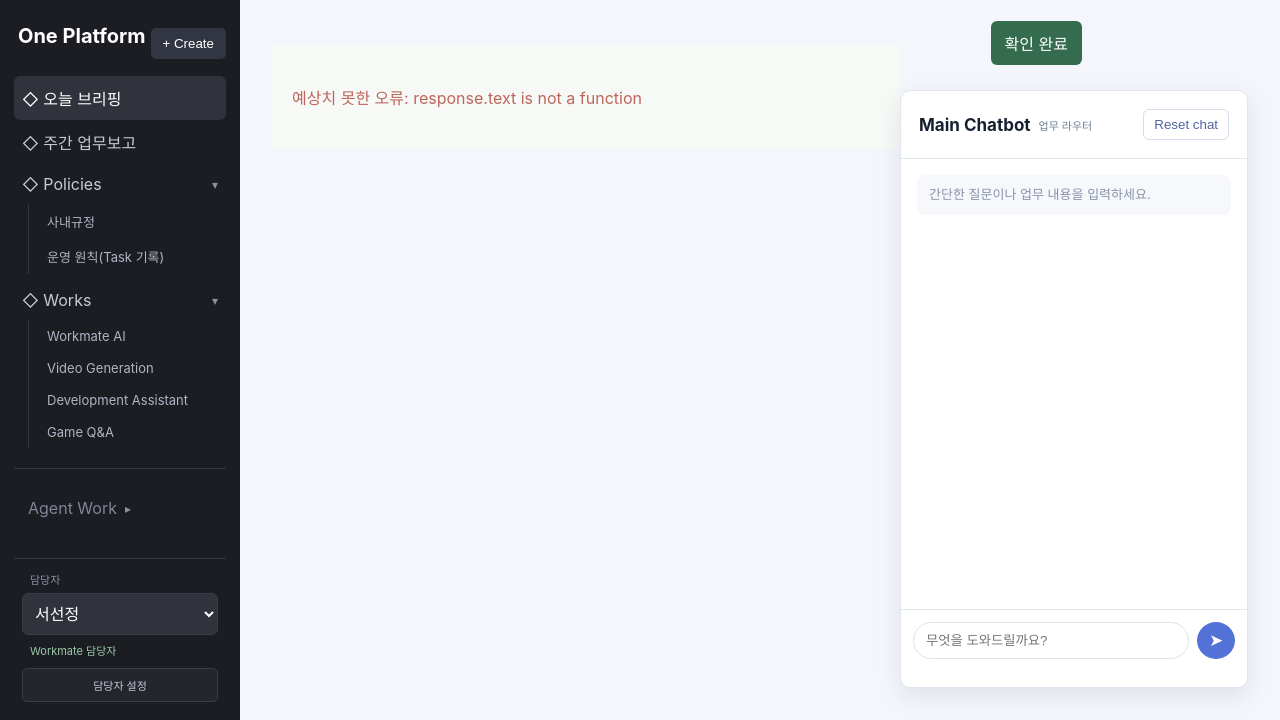
App - Video Generation sidebar entry › switches from Game Q&A to Workmate when the reply names Workmate as the target chat
Click the button "Game Q&A": click(132, 432) [39,416,226,448]
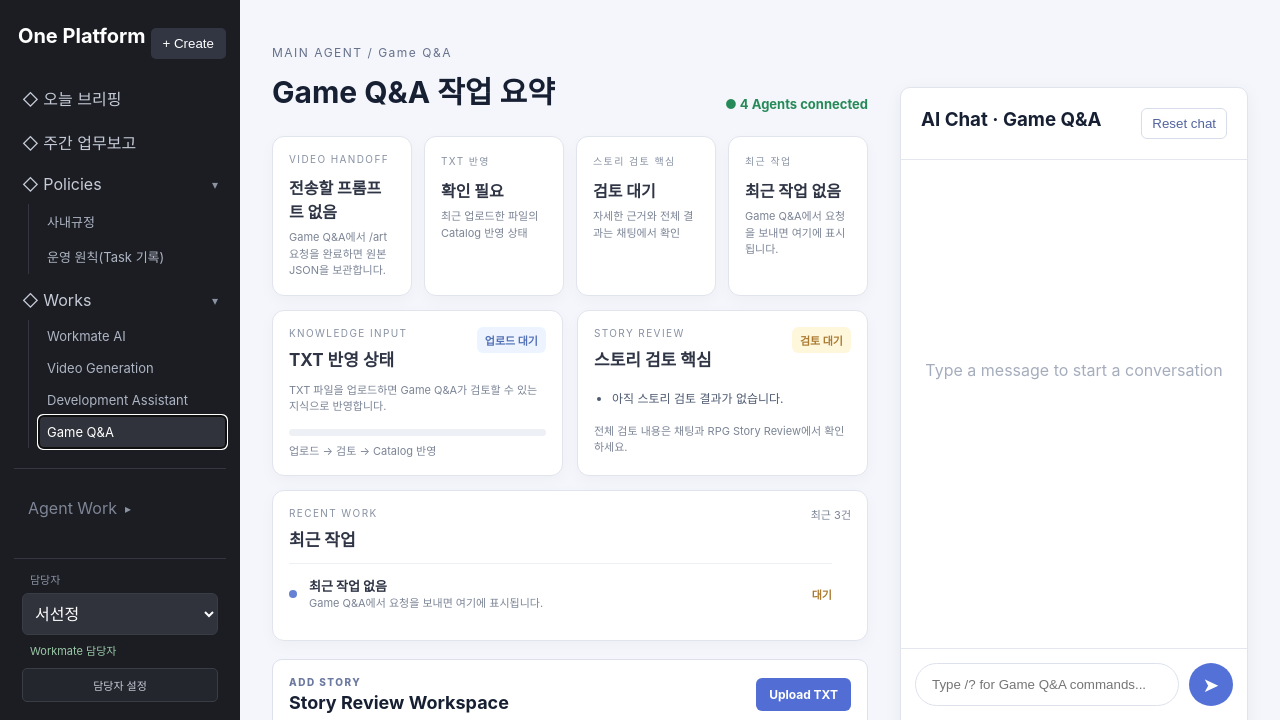
In the field with placeholder "Type /? for Game Q&A commands...": (1047, 684) [915,663,1179,706], type "다음 주 회의 일정 잡아줘"
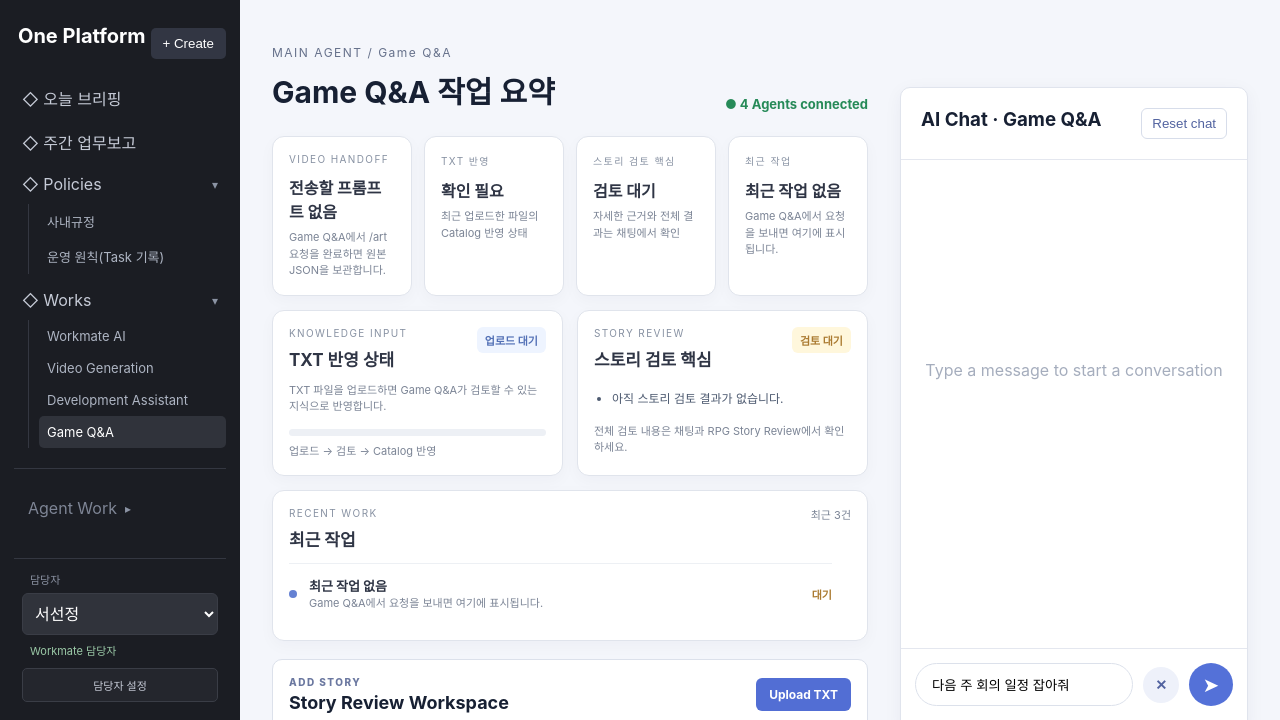
Click the submit button: click(1211, 684) [1189,663,1233,706]
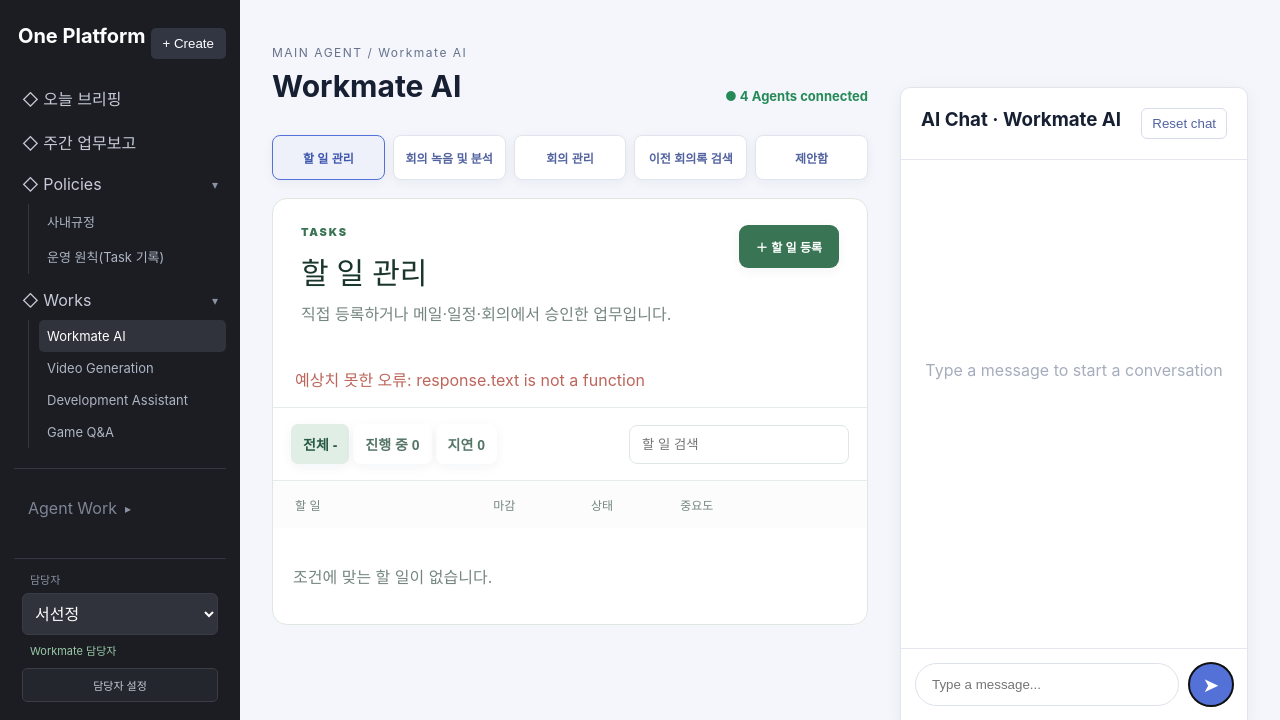
Check: the heading "AI Chat · Workmate AI Reset chat" is shown, box [901,88,1247,160]
